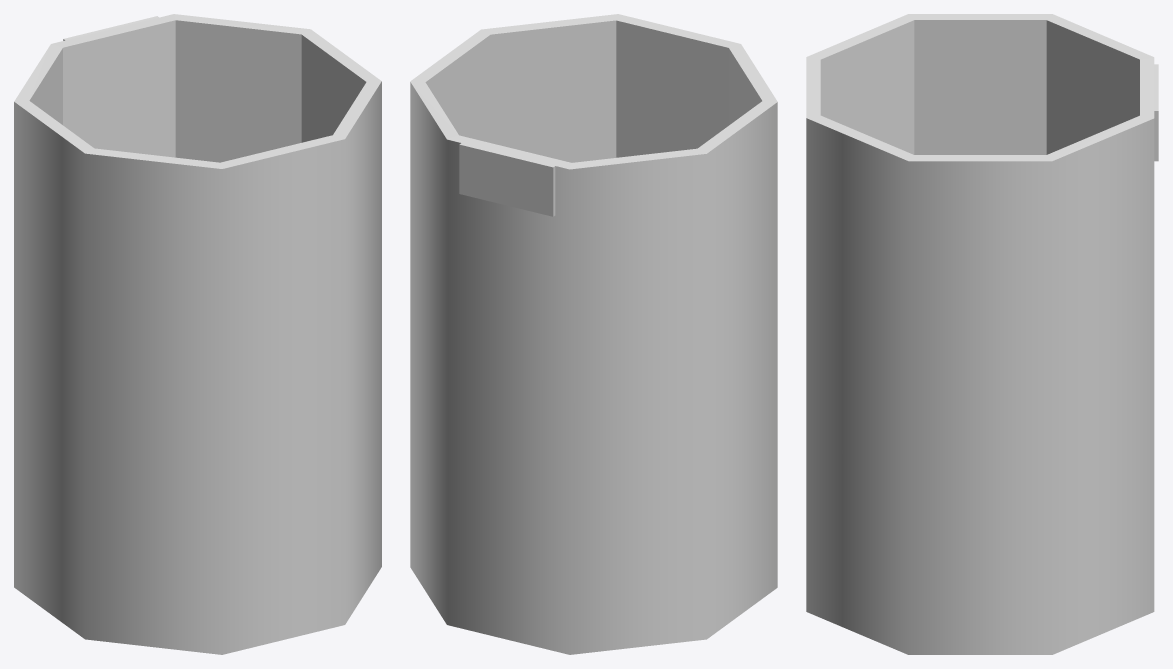
The model's file is Itr_Trashcan4_Body_01.FBX.
3 views of the same model, side by side, from view 1: azimuth 30°, elevation 25°; view 2: azimuth 150°, elevation 25°; view 3: azimuth 270°, elevation 25° (orthographic).
Parts seen in each view (by area): view 1: Itr_Trashcan4_Body_01; view 2: Itr_Trashcan4_Body_01; view 3: Itr_Trashcan4_Body_01.
Boxes of the visible parts, left/top/right/bottom form: Itr_Trashcan4_Body_01: left=14, top=14, right=381, bottom=654; Itr_Trashcan4_Body_01: left=410, top=14, right=777, bottom=654; Itr_Trashcan4_Body_01: left=806, top=14, right=1158, bottom=654.
Bounding box in the file's own units: 12.01 × 18.79 × 12.15.
